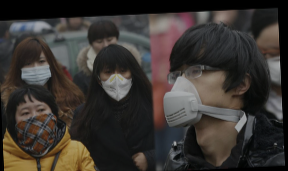with_mask: (162, 54, 243, 131), (14, 101, 61, 153), (98, 63, 135, 102), (20, 54, 52, 85), (262, 42, 281, 89)
without_mask: (91, 35, 120, 55)
